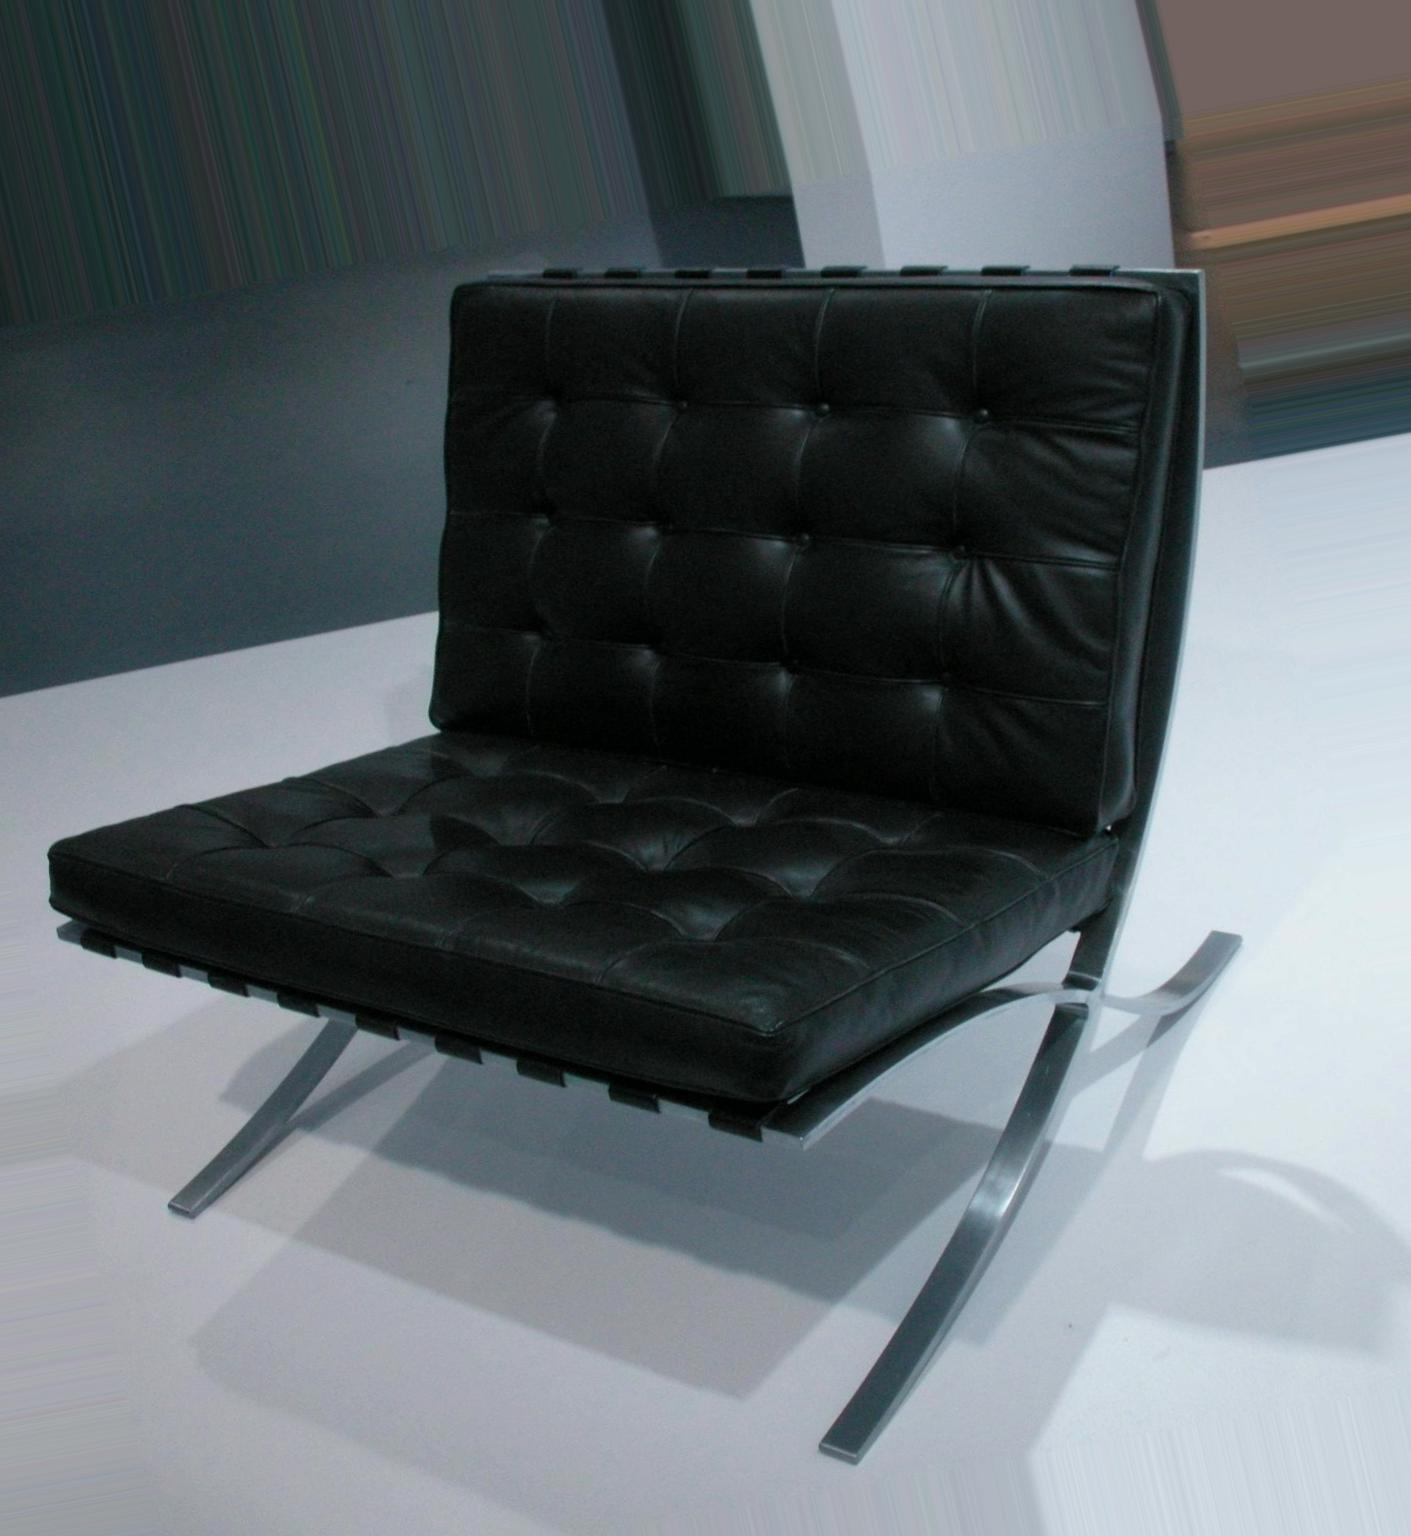chair: (44, 264, 1245, 1466)
